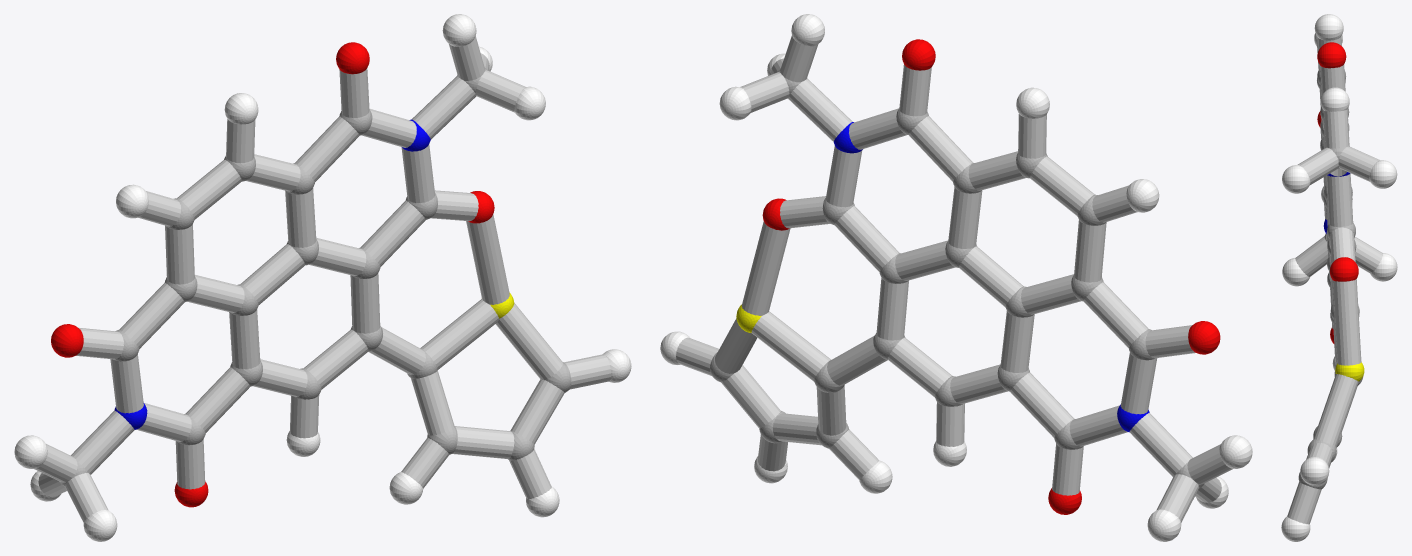
File: Dimethyl_Naphthalene_Dicarboximide_Phi_20_Theta_170_Thiophene.glb
3 views of the same model, side by side, from view 1: azimuth 30°, elevation 25°; view 2: azimuth 150°, elevation 25°; view 3: azimuth 270°, elevation 25° (orthographic). The views are drawn at different scales.
Parts seen in each view (by area): view 1: grp14119, grp7241, grp1, grp12309, grp11585; view 2: grp14119, grp7241, grp1, grp12309, grp11585; view 3: grp14119, grp7241, grp12309, grp1, grp13757.
Part boxes in pixels (bbox=[...]): grp14119: bbox=[34, 36, 611, 522]; grp7241: bbox=[14, 14, 631, 541]; grp1: bbox=[59, 67, 571, 486]; grp12309: bbox=[51, 42, 494, 507]; grp11585: bbox=[114, 119, 430, 429]; grp14119: bbox=[676, 36, 1233, 522]; grp7241: bbox=[660, 14, 1252, 541]; grp1: bbox=[710, 69, 1204, 489]; grp12309: bbox=[762, 39, 1220, 514]; grp11585: bbox=[833, 122, 1149, 432]; grp14119: bbox=[1287, 36, 1382, 524]; grp7241: bbox=[1281, 14, 1397, 541]; grp12309: bbox=[1317, 42, 1358, 343]; grp1: bbox=[1298, 69, 1363, 489]; grp13757: bbox=[1335, 362, 1364, 381].
Size of the model in its own units: 12.3 by 9.75 by 2.4.
